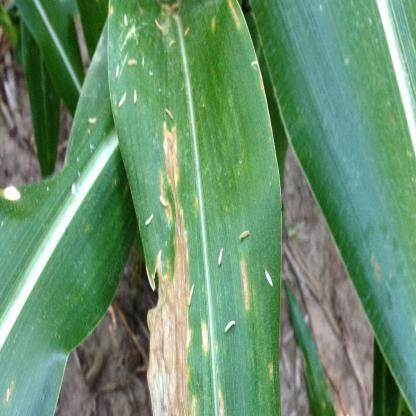Corn Gray leaf spot: (104, 6, 290, 415)
